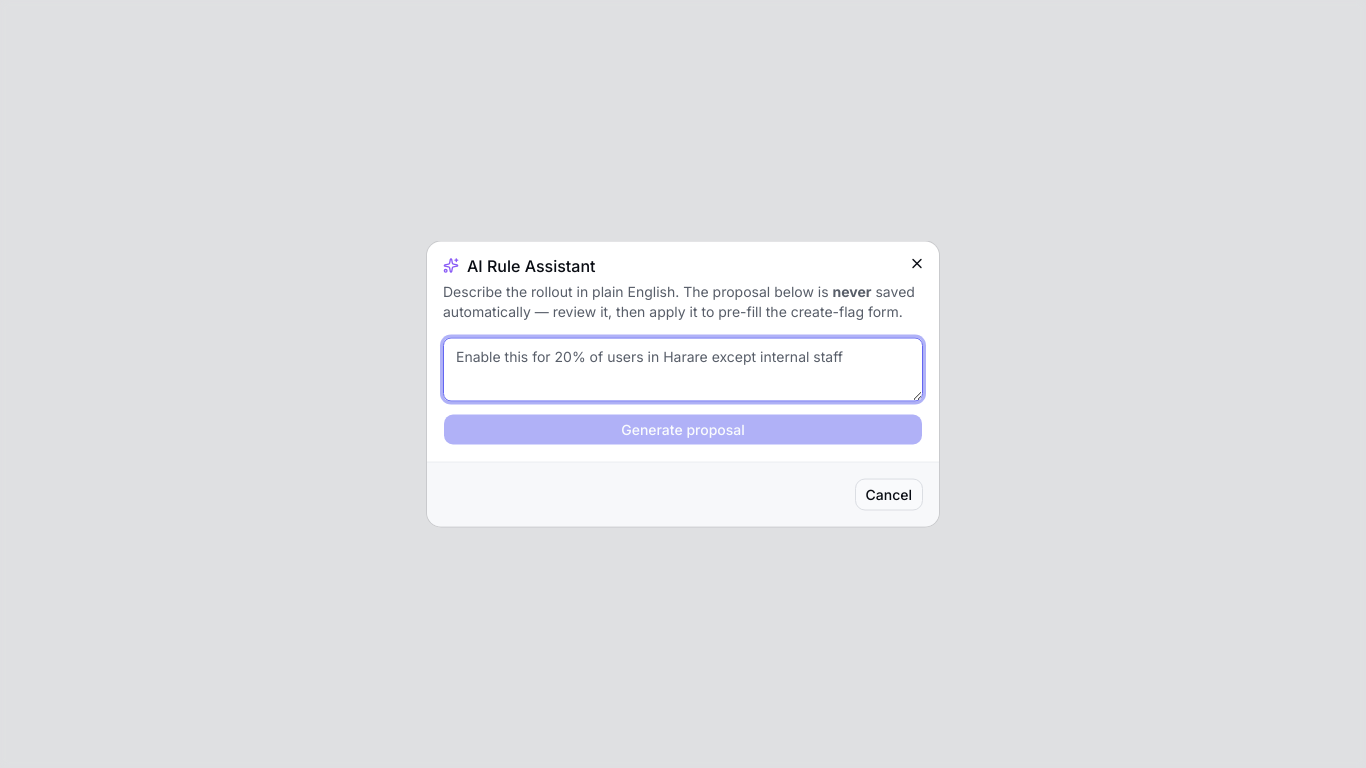
AiRuleAssistantDialog › shows a friendly message and no proposal when the AI is unavailable
Type "enable this for everyone" into the text box with placeholder "Enable this for 20%". click: (683, 370)
box: x1=443 y1=338 x2=923 y2=402
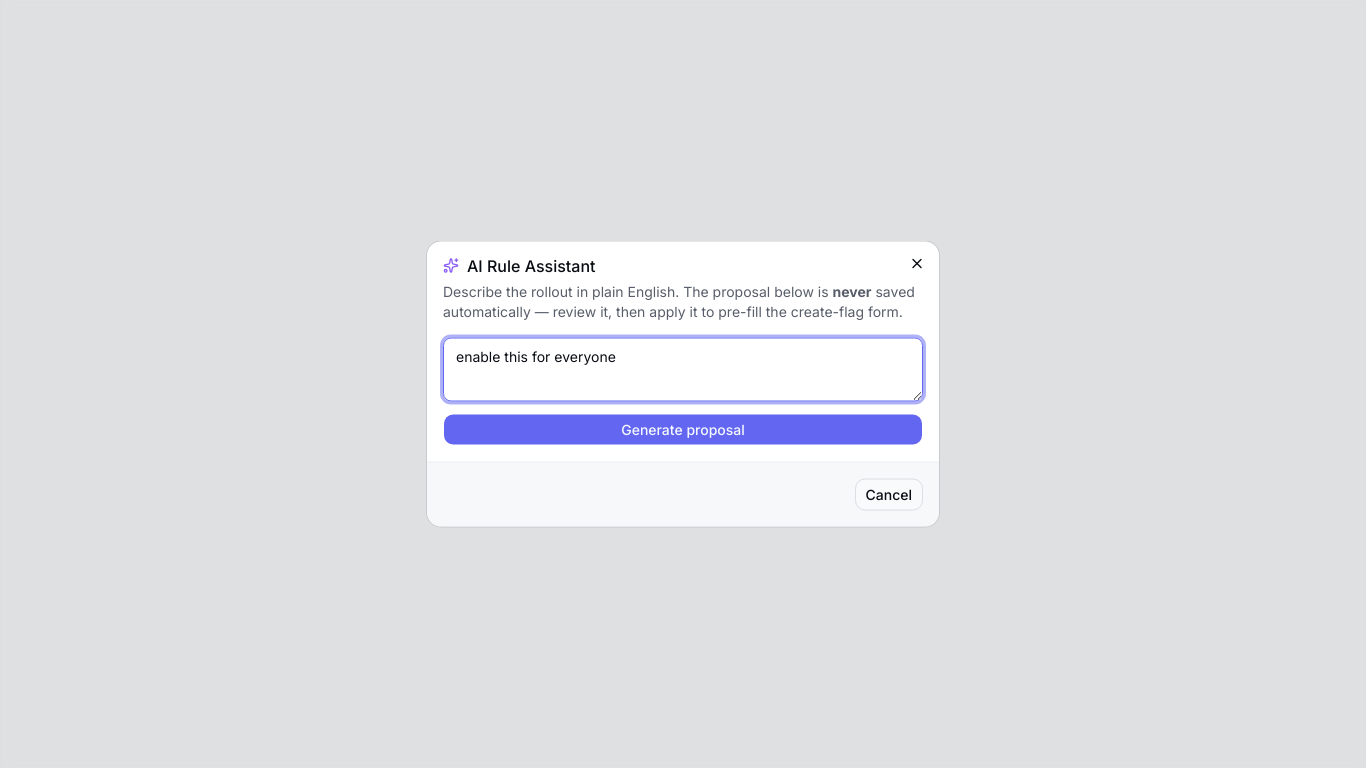
Click the button "Generate proposal". click: (683, 430)
box: x1=443 y1=414 x2=923 y2=446
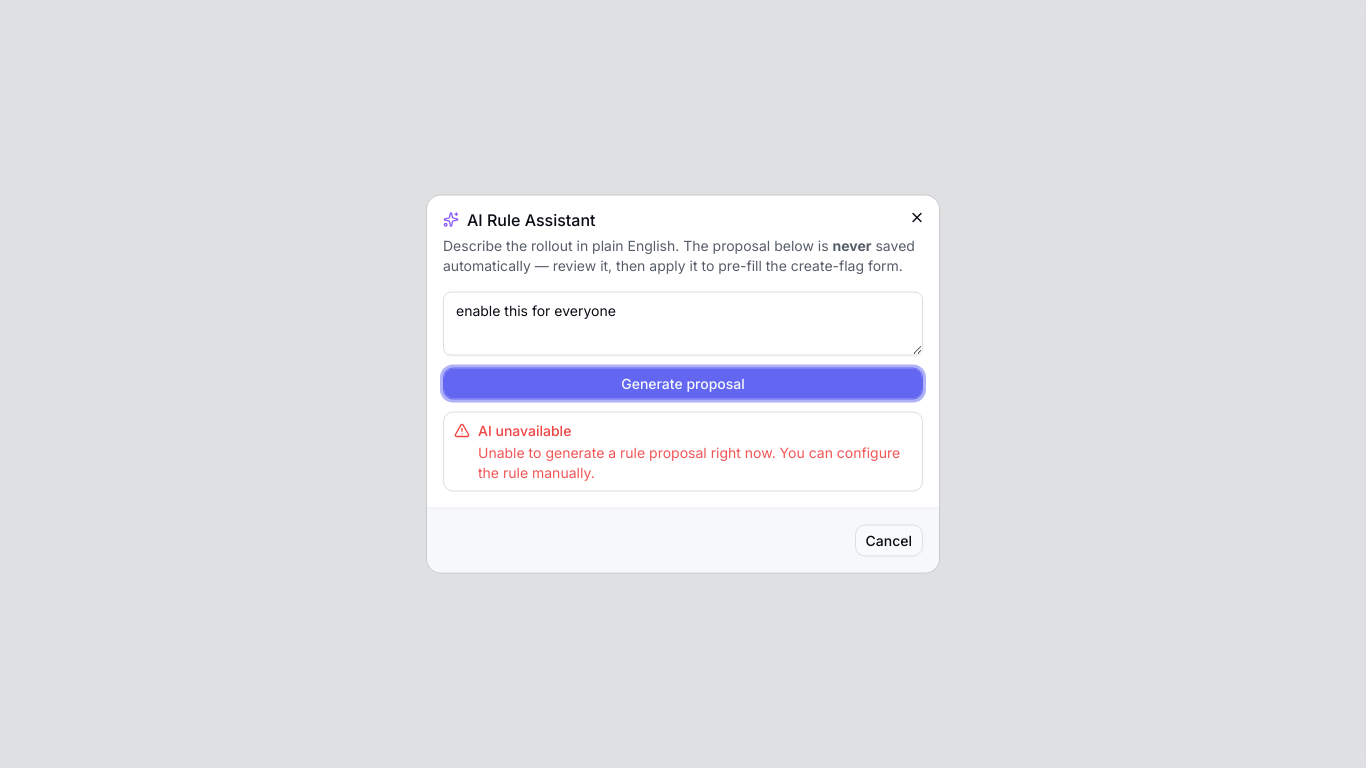
Now the text "Unable to generate a rule proposal" is shown, box x1=478 y1=444 x2=900 y2=480
